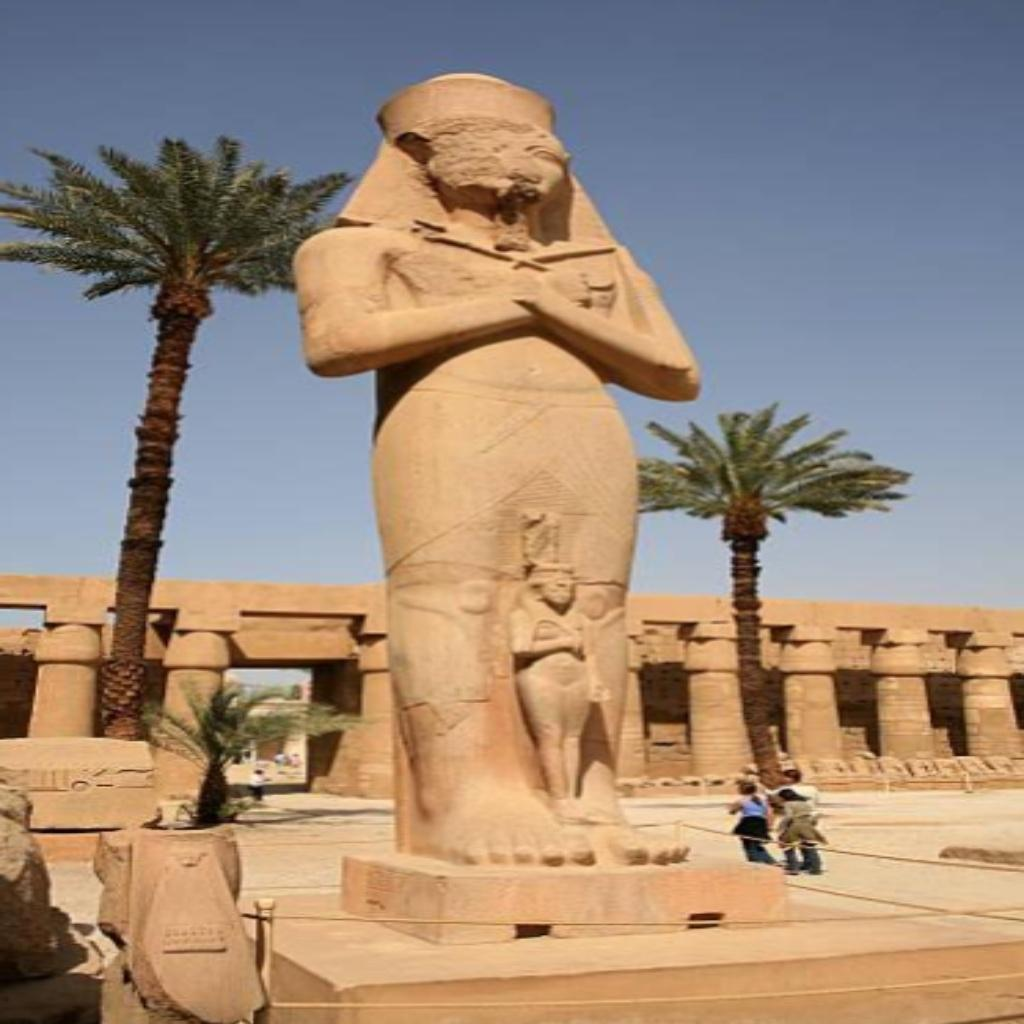Standing Statue of King Ramses II: (286, 70, 710, 872)
